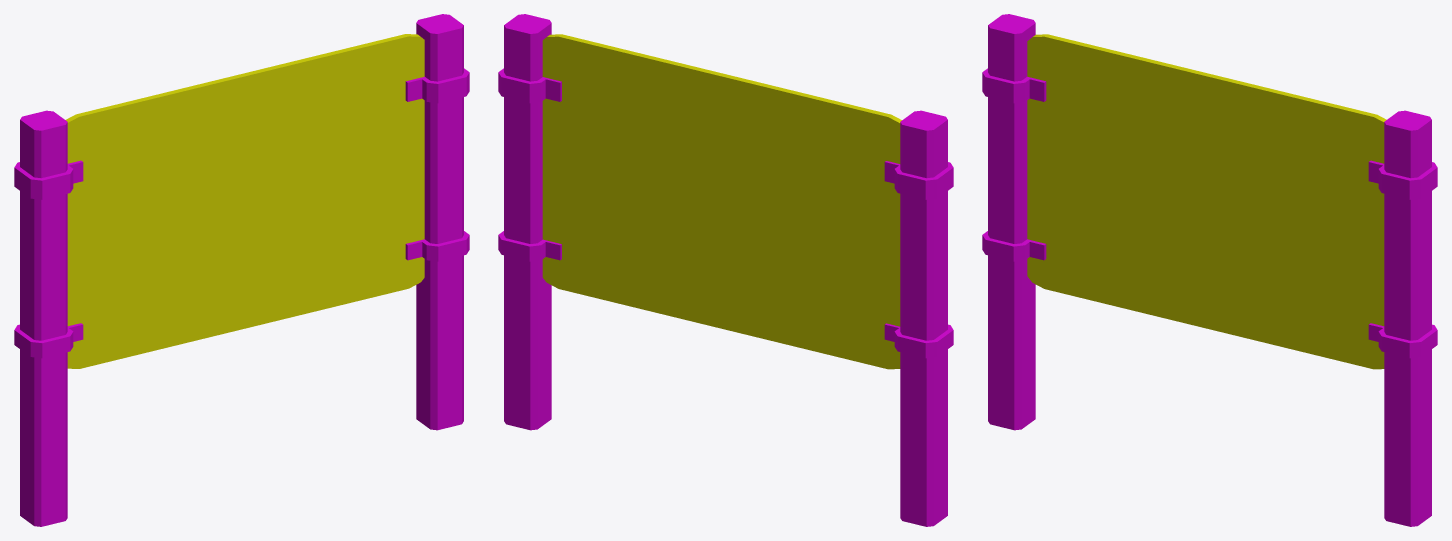
The model's file is WelcomeSign.fbx.
3 views of the same model, side by side, from view 1: azimuth 30°, elevation 25°; view 2: azimuth 150°, elevation 25°; view 3: azimuth 330°, elevation 25° (orthographic).
Visible parts, largest first — view 1: WelcomeSign; view 2: WelcomeSign; view 3: WelcomeSign.
Boxes of the visible parts, x1=… form: WelcomeSign: x1=14, y1=14, x2=469, y2=526; WelcomeSign: x1=498, y1=14, x2=953, y2=526; WelcomeSign: x1=982, y1=14, x2=1437, y2=526.
Bounding box in the file's own units: 170 × 147 × 16.61.
